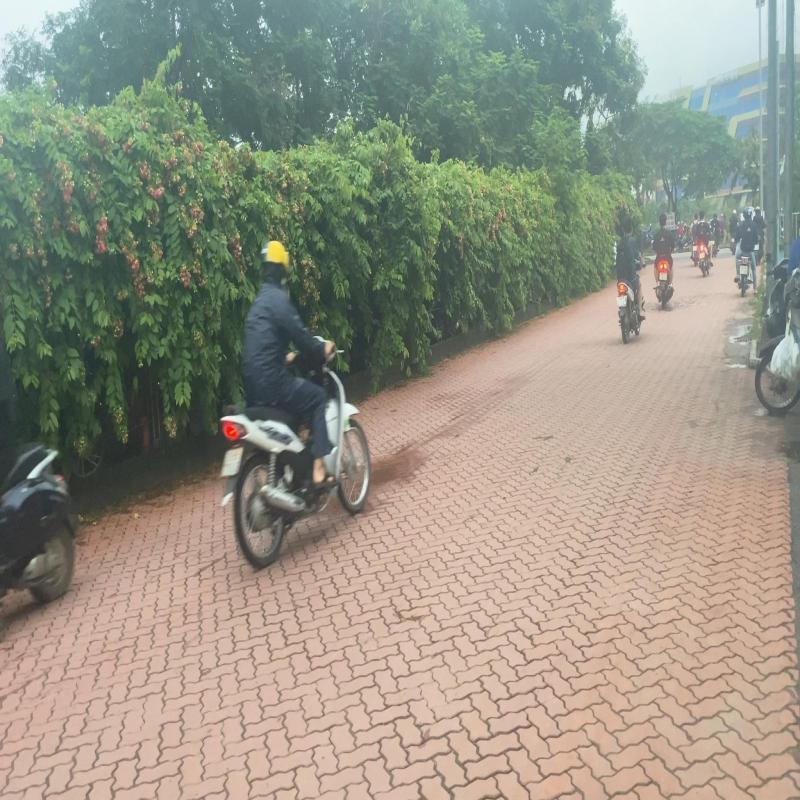licenseplate: (616, 295, 628, 306)
motorcyclist: (612, 216, 647, 344)
nohelmet: (624, 217, 633, 236)
